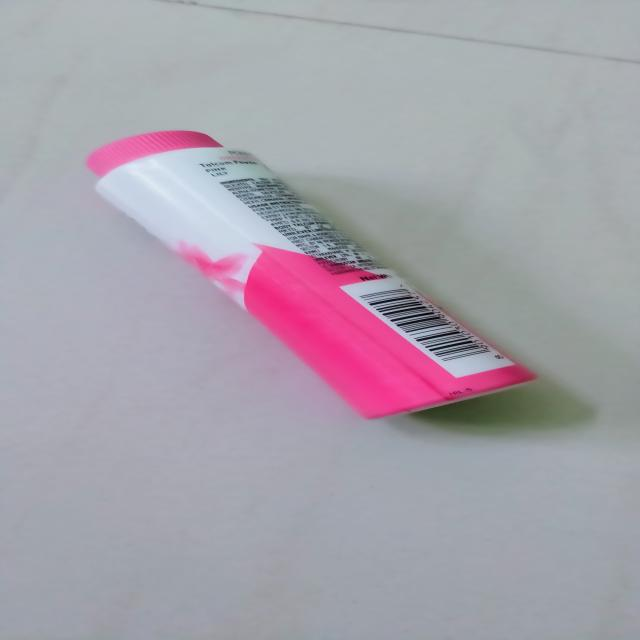powder: (60, 123, 548, 417)
